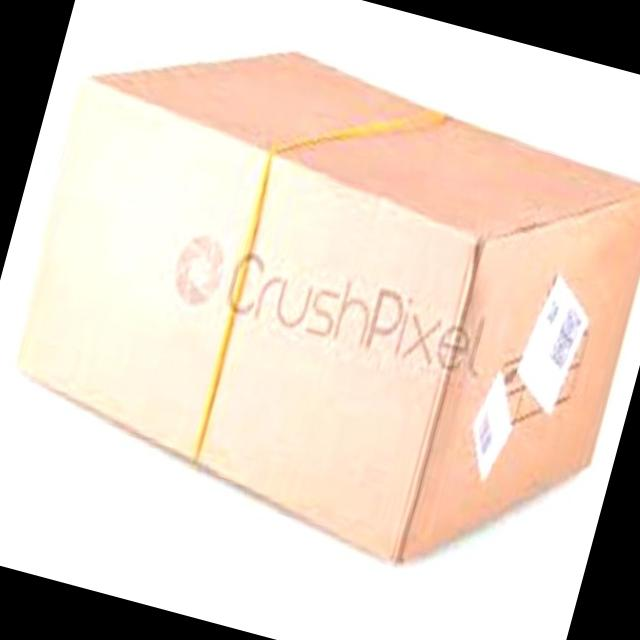box: (17, 48, 640, 562)
